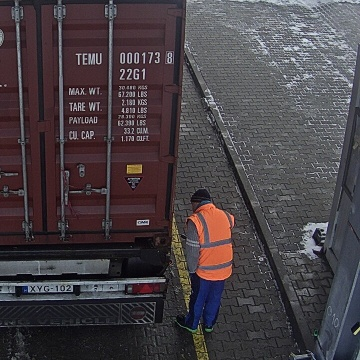serial_id: (74, 52, 172, 65)
